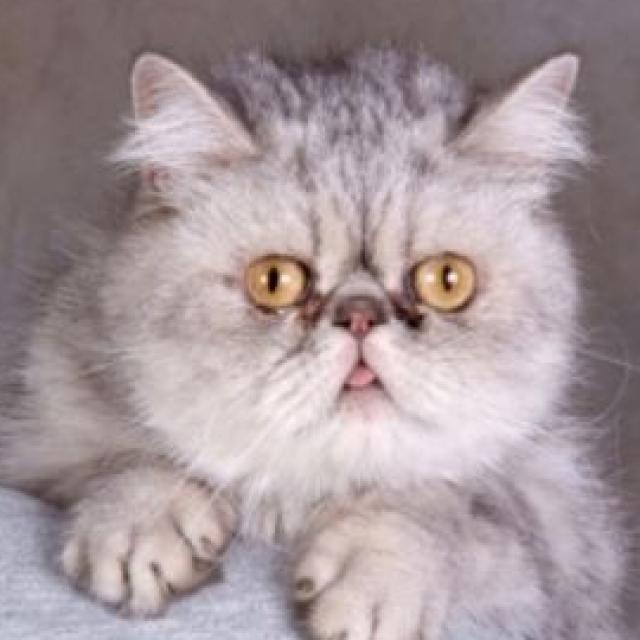Persian: (0, 35, 637, 640)
